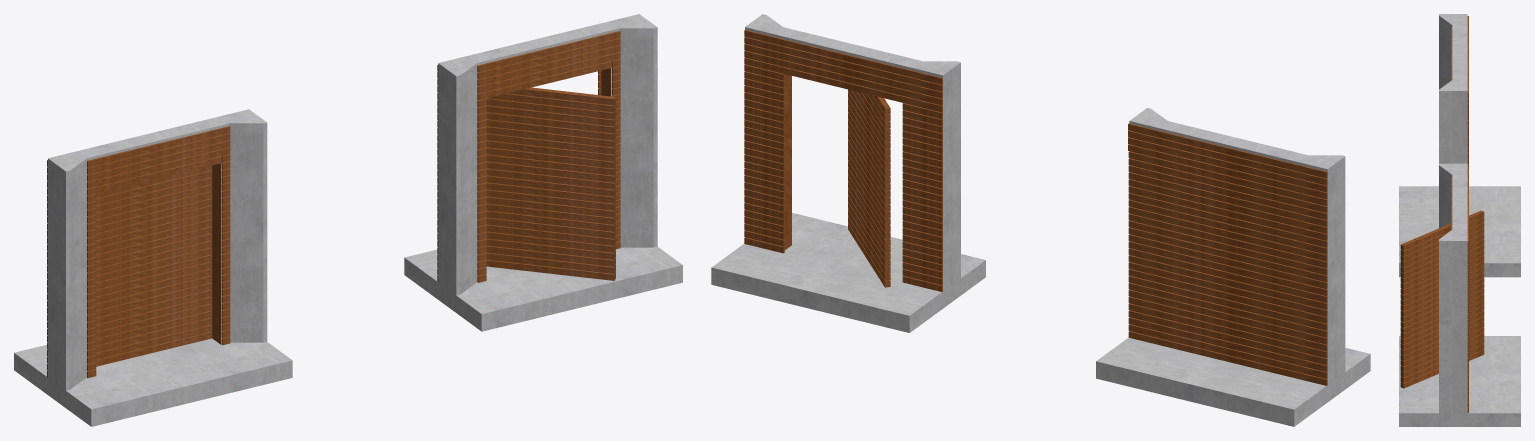
File: porta_de_madeira.glb
3 views of the same model, side by side, from view 1: azimuth 30°, elevation 25°; view 2: azimuth 150°, elevation 25°; view 3: azimuth 270°, elevation 25° (orthographic). The views are drawn at different scales.
Parts seen in each view (by area): view 1: Group4, Group8, Group16, Group22, Group1, Group13, Group19, Group20, Group11, Group21, Group23, Group17 (+1 smaller); view 2: Group7, Group13, Group1, Model, Group8, Group12, Group18, Group4; view 3: Group13, Group18, Group8, Group1, Group4, Model, Group16, Group12, Group7.
Part boxes in pixels (<box>): Group4: <box>48,110,292,426</box>; Group8: <box>438,14,682,331</box>; Group16: <box>486,88,614,280</box>; Group22: <box>95,165,212,366</box>; Group1: <box>14,109,257,401</box>; Group13: <box>404,14,648,306</box>; Group19: <box>486,33,612,98</box>; Group20: <box>95,128,222,193</box>; Group11: <box>477,63,486,282</box>; Group21: <box>87,159,96,377</box>; Group23: <box>221,126,230,345</box>; Group17: <box>612,31,620,249</box>; Group7: <box>1128,123,1327,385</box>; Group13: <box>711,20,952,332</box>; Group1: <box>1096,114,1336,426</box>; Model: <box>744,30,942,291</box>; Group8: <box>745,14,985,308</box>; Group12: <box>744,30,784,253</box>; Group18: <box>848,89,886,287</box>; Group4: <box>1129,108,1370,395</box>; Group13: <box>1452,163,1520,426</box>; Group18: <box>1402,211,1484,388</box>; Group8: <box>1399,163,1467,426</box>; Group1: <box>1452,14,1520,277</box>; Group4: <box>1399,14,1467,277</box>; Model: <box>1401,165,1482,387</box>; Group16: <box>1400,210,1481,387</box>; Group12: <box>1467,227,1468,412</box>; Group7: <box>1467,16,1468,165</box>.
Bounding box in the file's own units: 706 × 270 × 160.
2 materials, 2 textured.
